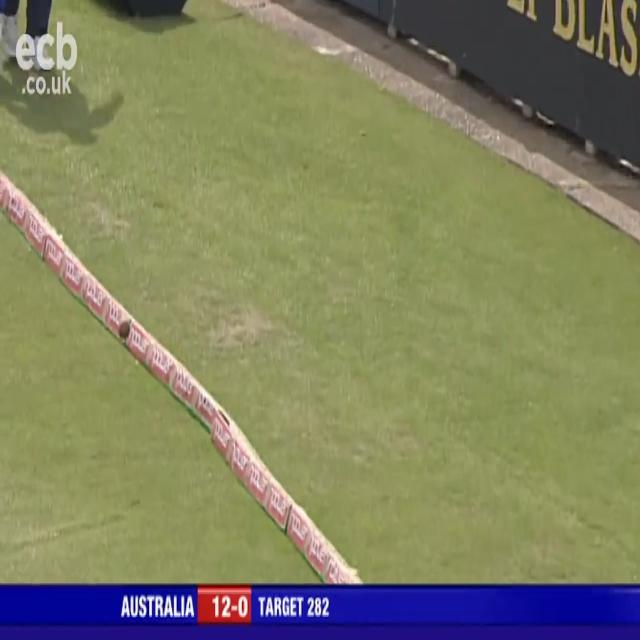ball: (116, 317, 132, 343)
